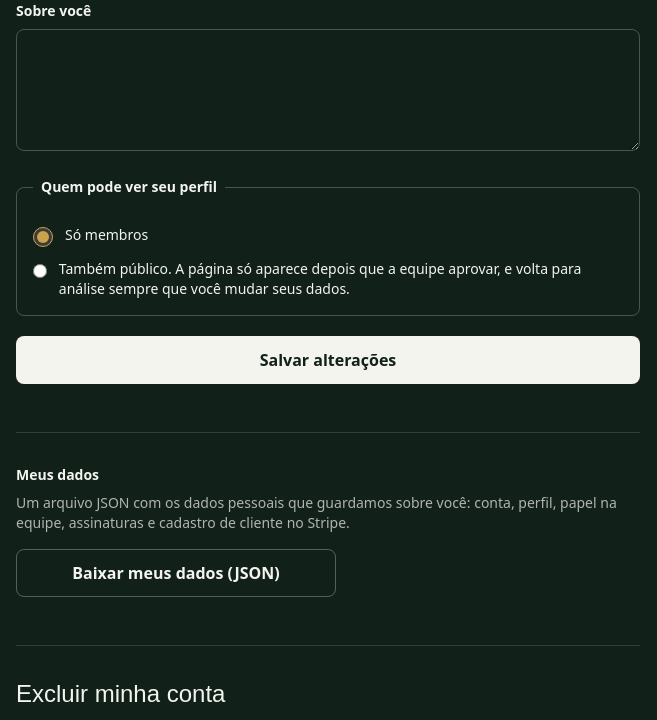
tela Meu perfil › salva quando o banco devolve a linha
(page scrolled)
Click the button "Salvar alterações": coordinates (328, 360) 16,336 -> 640,384
(page scrolled)
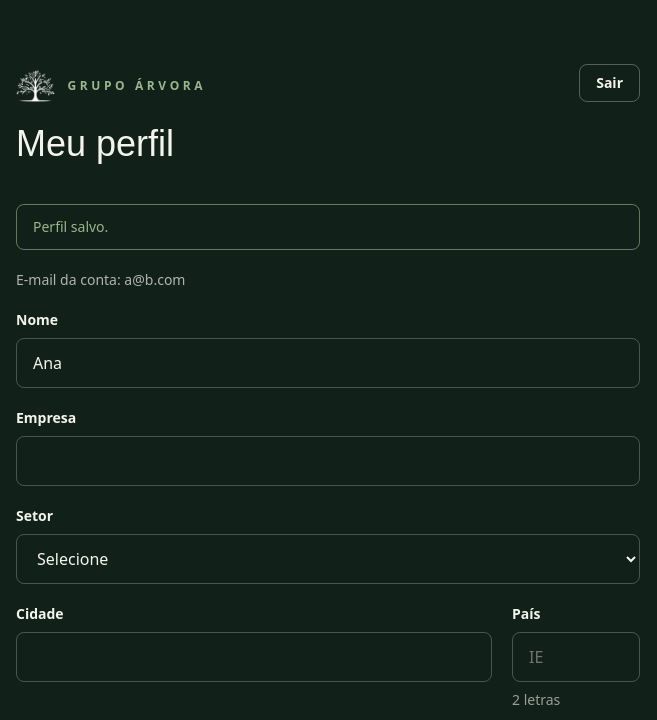
Expected: the message reads "Perfil salvo.", 33,217 -> 108,236
